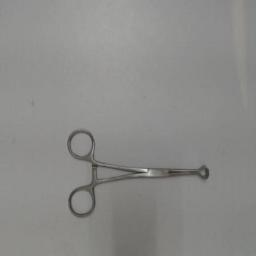Babcock Tissue Forceps: (66, 124, 210, 220)
